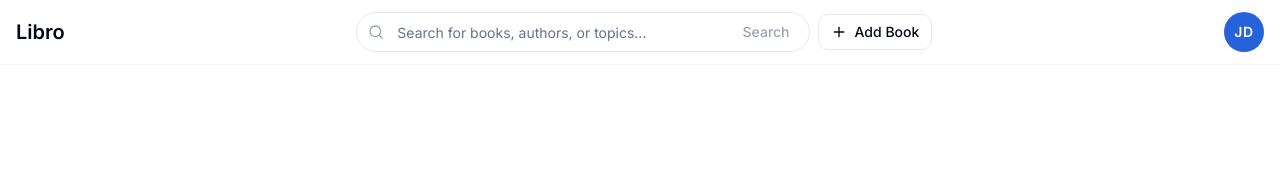
Scenario: TopBar › shows authenticated options in dropdown when user is authenticated
This screenshot has width=1280, height=183.
// Open the dropdown menu
Click the button "JD" at (1244, 32), box [1224,12,1264,52]
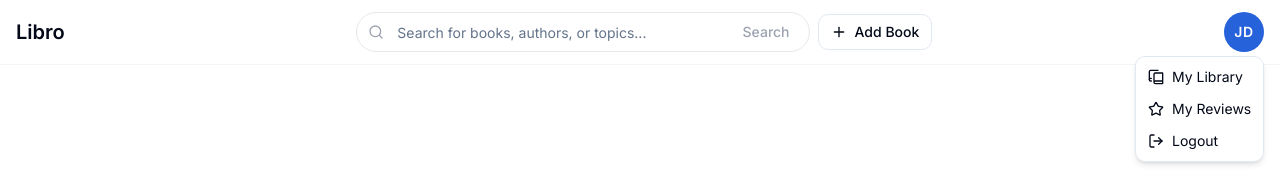
Expected: the menu item "My Library" is shown, [1148,68,1243,85]
Expected: the menu item "My Reviews" is shown, [1148,100,1251,117]
Expected: the menu item "Logout" is shown, [1148,132,1218,149]
